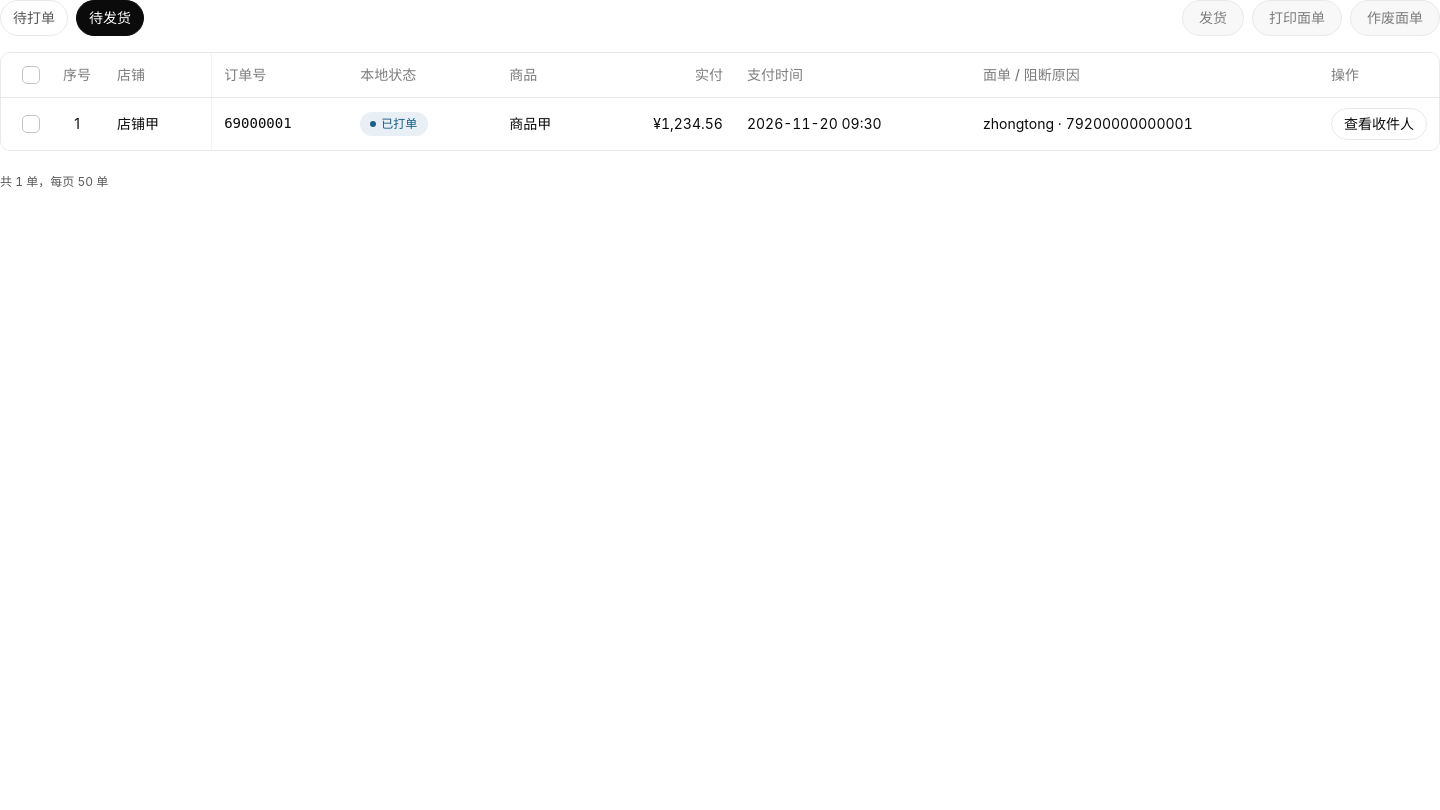
待发货阶段：发货（原发货台） › 演练模式：确认按钮标注（演练）且仍可提交
Click the checkbox named "选择订单 69000001" at (31, 124), box [13,106,49,142]
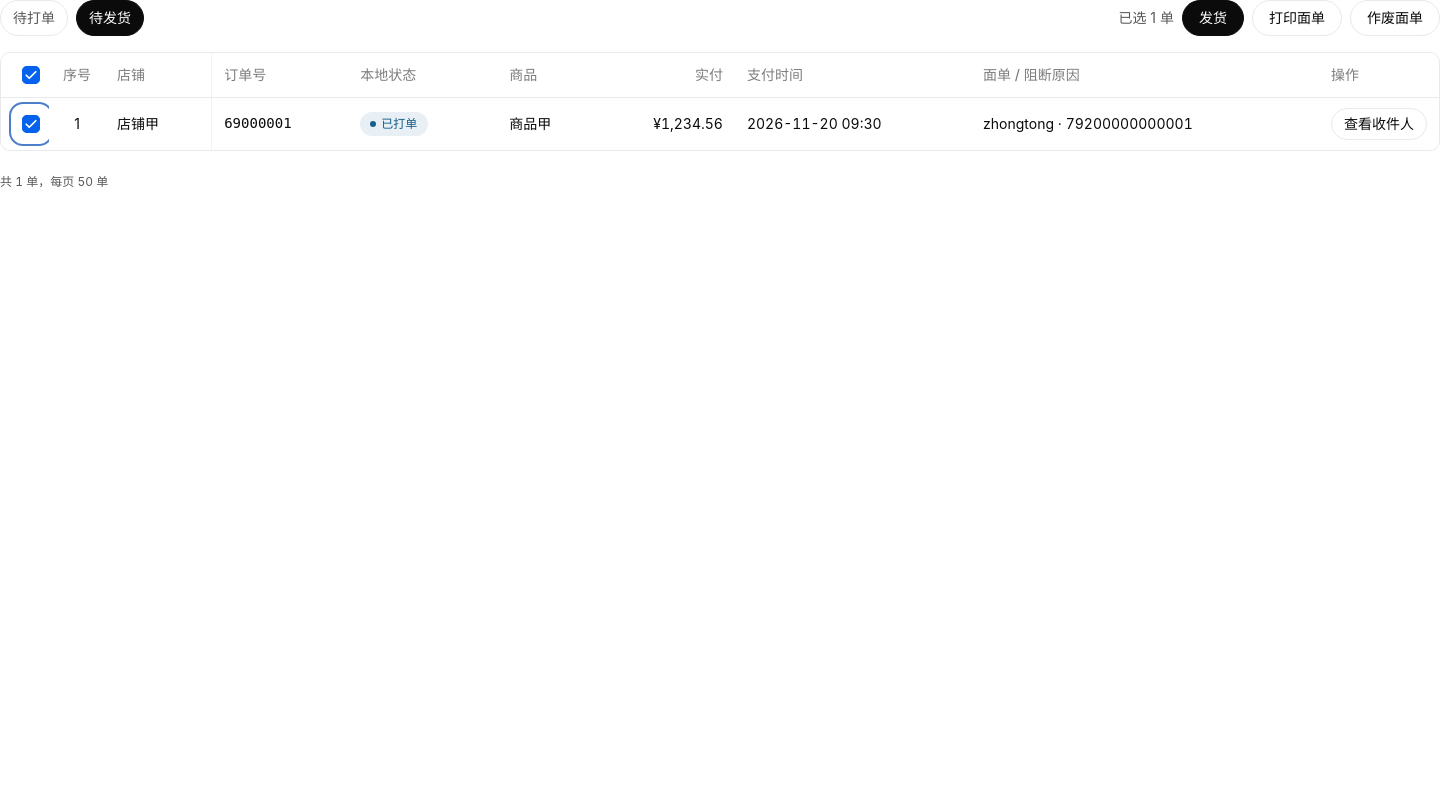
Click the button "发货" at (1213, 18), box [1182,0,1244,36]
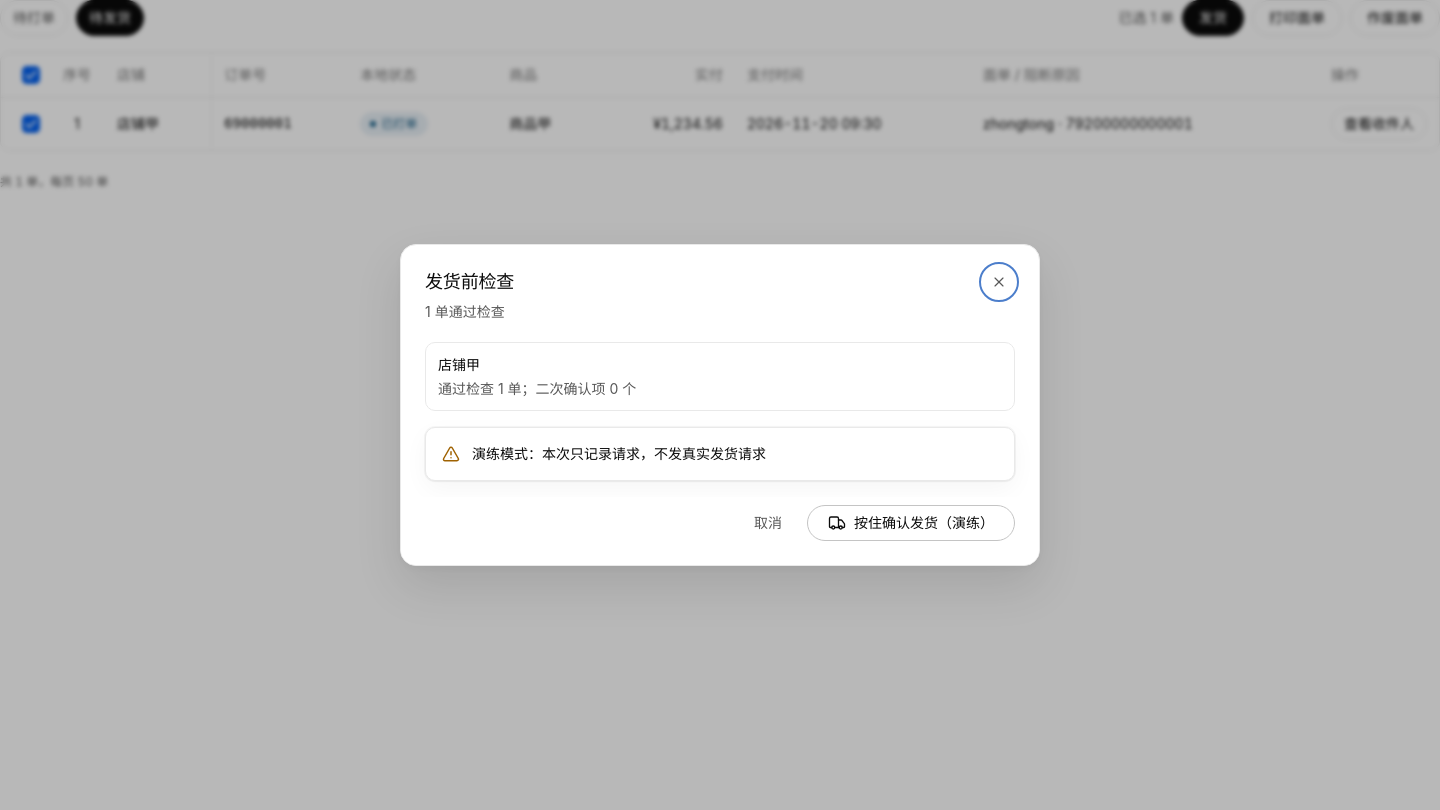
Expected: the text "演练模式：本次只记录请求，不发真实发货请求" is shown, [472,445,766,462]
Expected: the button "按住确认发货（演练） 按住确认发货（演练）" is enabled, [807,505,1015,541]
